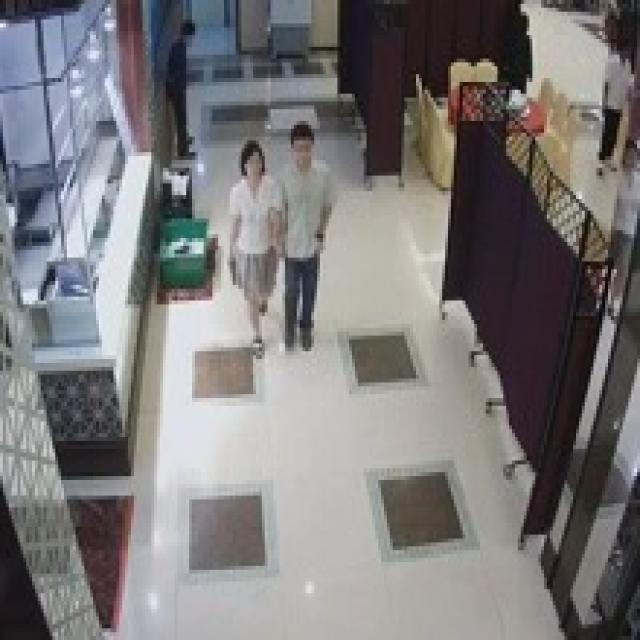normal: (275, 125, 334, 342), (227, 132, 280, 345), (157, 9, 214, 166)
